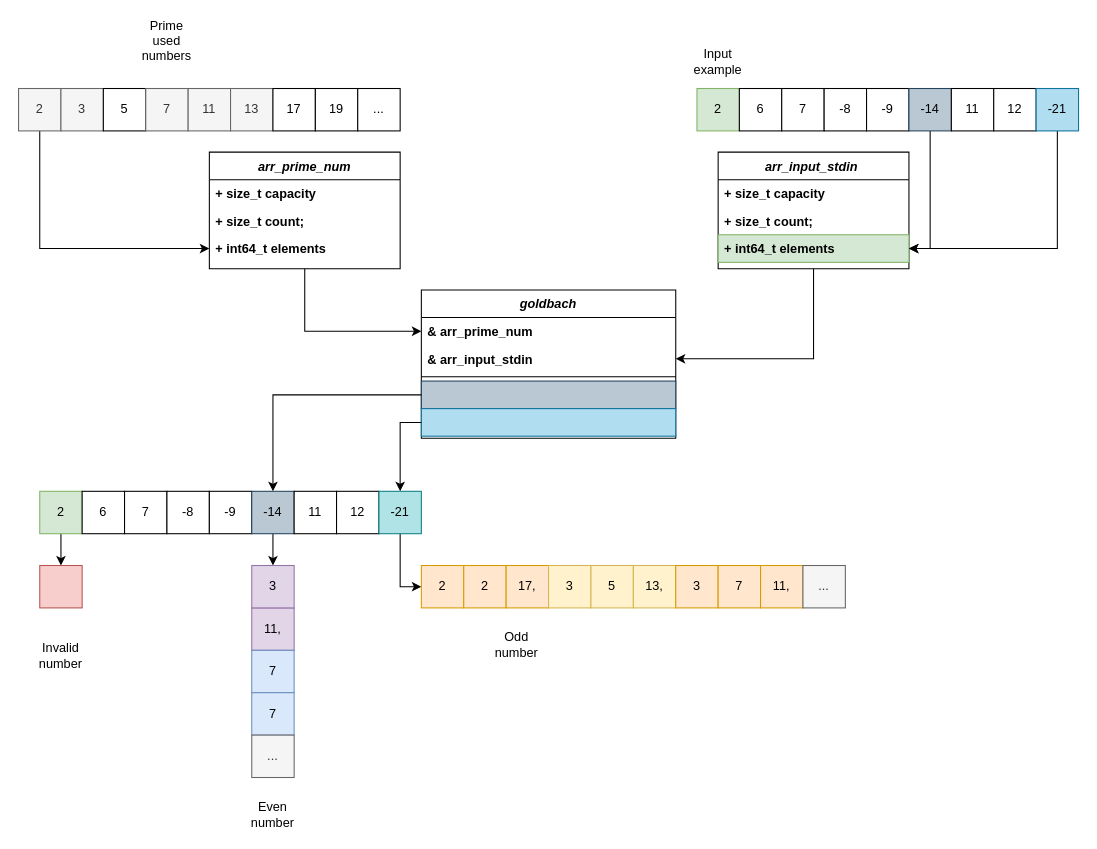
Some shapes in this 1097 by 849 pixel diagram are drawn without their labels. The centre of each missing label's shape, as x and y in pixels:
"+ goldbach_even" belongs at (548,394).
"+ goldbach_odd" belongs at (548,422).
"NA" belongs at (60,586).
